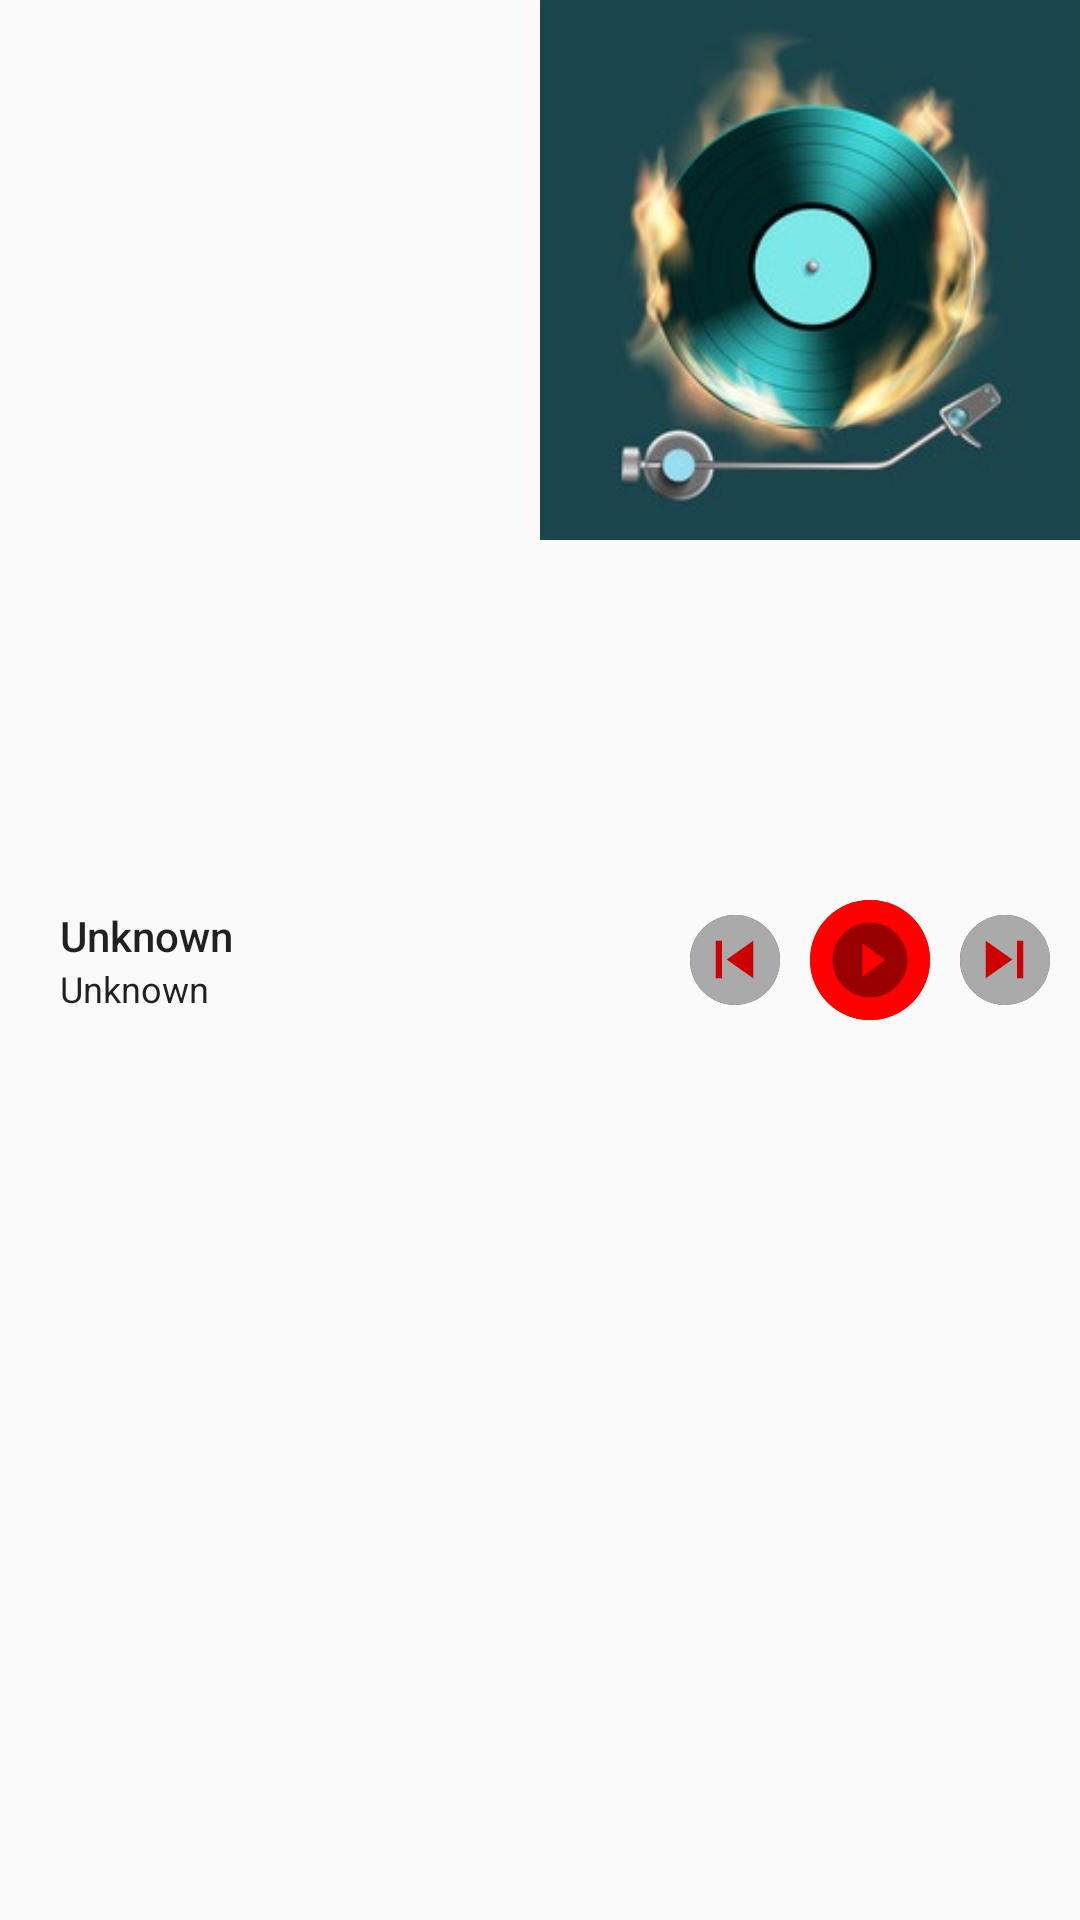

Point at icon controls on the screen. Image size 1080×1920, points as [x,y].
next: [1004,959]
play circle: [870,960]
previous: [734,959]
